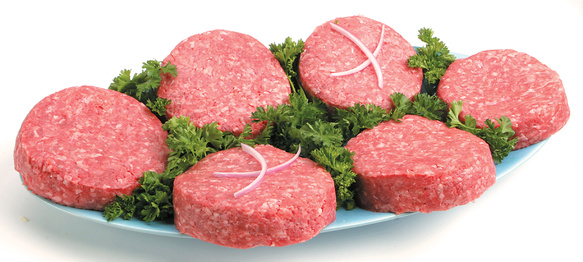ground_beef: (14, 85, 170, 215), (163, 135, 328, 257), (341, 98, 471, 231), (162, 23, 280, 157), (296, 12, 429, 130), (439, 49, 574, 135)
